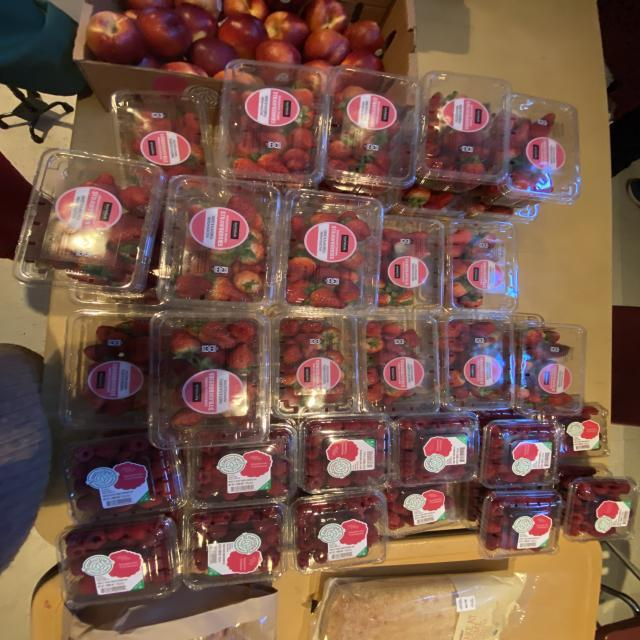Apple -Red-: (87, 11, 147, 65), (137, 8, 192, 61), (218, 14, 268, 58), (188, 36, 238, 76), (303, 29, 350, 65), (265, 11, 310, 48), (175, 4, 218, 41), (303, 0, 348, 34), (343, 20, 385, 52), (255, 39, 302, 64), (223, 0, 268, 21), (175, 0, 222, 19), (342, 50, 383, 71), (215, 69, 263, 86), (160, 61, 208, 76), (125, 0, 173, 10), (303, 59, 333, 74)
Bread: (310, 571, 537, 640), (55, 584, 278, 640)
Raspberries: (57, 515, 182, 610), (60, 435, 185, 524), (183, 424, 297, 508), (182, 501, 288, 590), (290, 491, 388, 574), (298, 414, 390, 494), (392, 412, 480, 486), (478, 489, 563, 559), (478, 419, 558, 489), (563, 476, 638, 541), (385, 484, 460, 538), (557, 402, 610, 461)
Strawberries: (13, 149, 167, 296), (199, 55, 331, 195), (148, 310, 270, 449), (157, 175, 280, 310), (308, 60, 431, 193), (487, 87, 612, 213), (410, 63, 513, 194), (277, 189, 383, 315), (420, 212, 542, 316), (99, 89, 216, 194), (60, 310, 153, 429), (272, 314, 360, 419), (358, 314, 440, 415), (440, 314, 513, 411), (515, 321, 587, 415), (378, 215, 445, 314)
